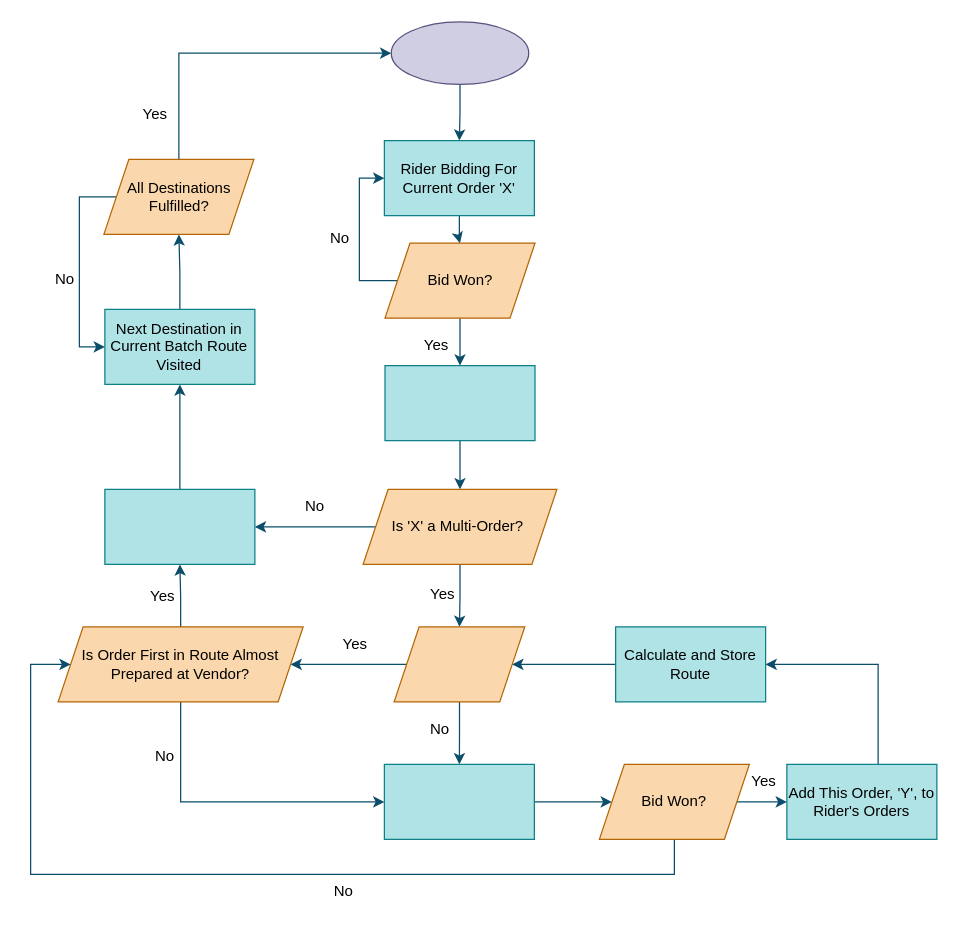
This 959x946 diagram has some shape labels left out. Here are the shapes that lost their labels. From the top down, the centre of each, then its label:
At pixel 459 52: "No Orders For Rider".
At pixel 459 402: "Add This Order, 'X', to Rider's Orders".
At pixel 179 526: "Vendor Order Pickup".
At pixel 459 664: "Batch Limit Reached?".
At pixel 458 801: "Rider Bidding For Current Order 'Y'".
